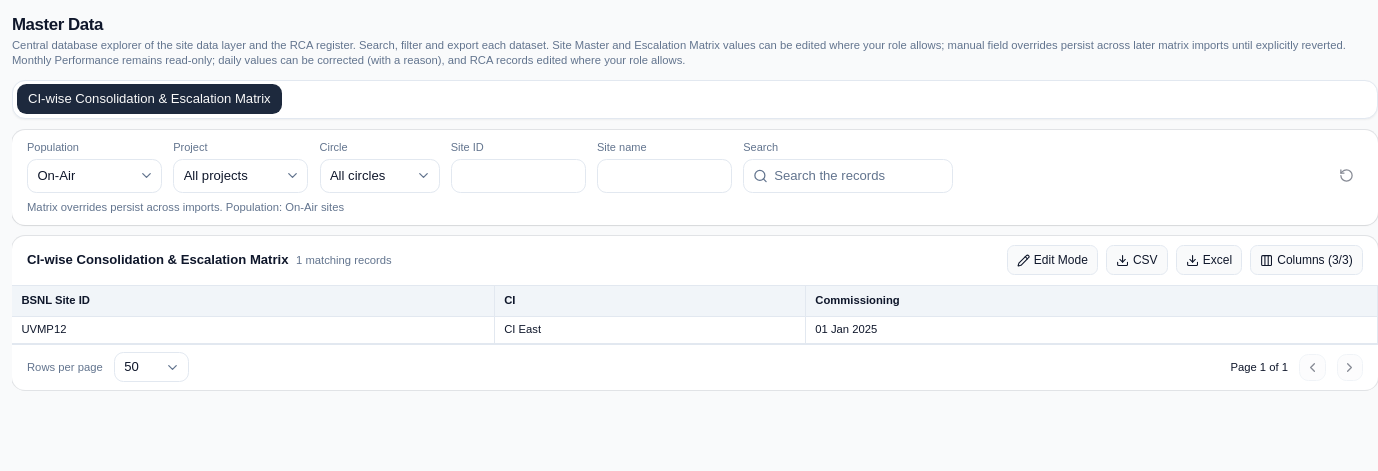
Test case: Master Data editing › shows CI-wise Edit Mode and saves only the authorized matrix fields
The width and height of the screenshot is (1378, 471).
Click the button "Edit Mode" at (1052, 260), box [1006,245,1098,275]
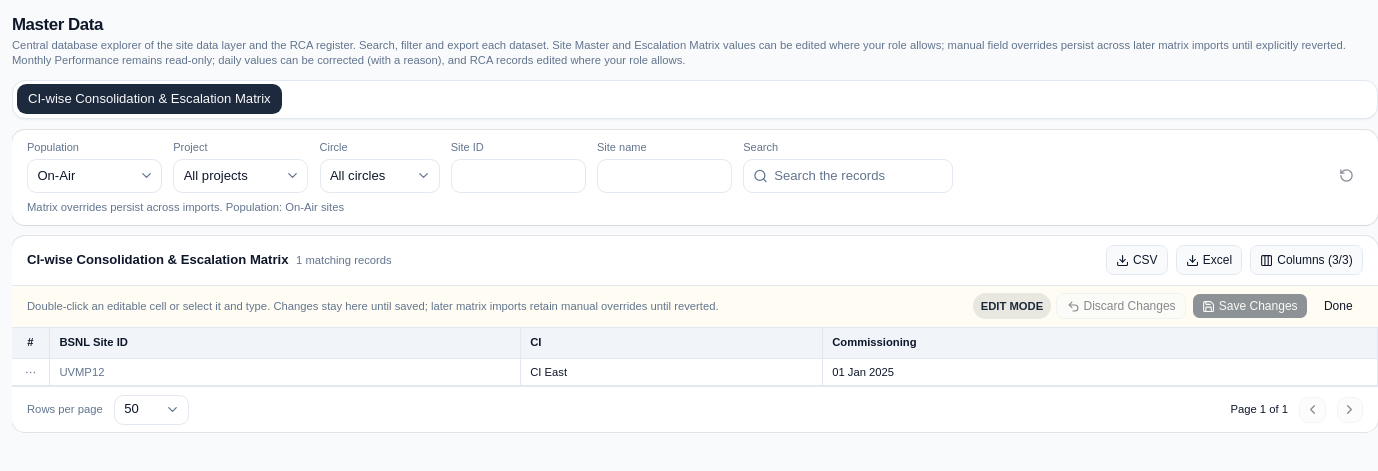
Double-click the cell named "CI of record 12" at (671, 372), box [520,358,822,386]
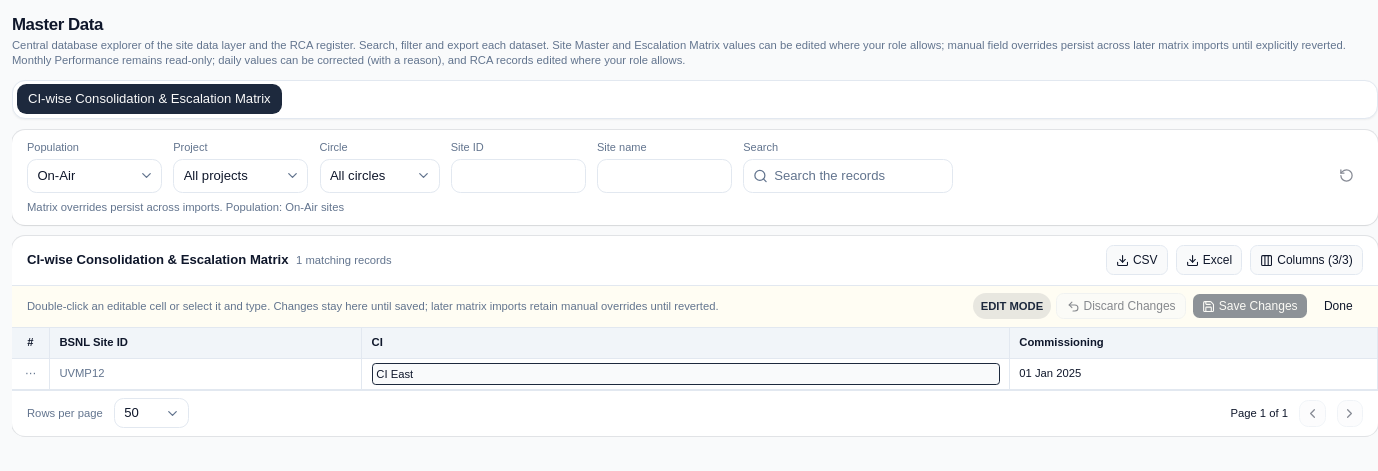
Replace the text in the field named "CI of record 12" with "Manual CI" at (686, 374), box [372,363,1000,385]
Then press Enter
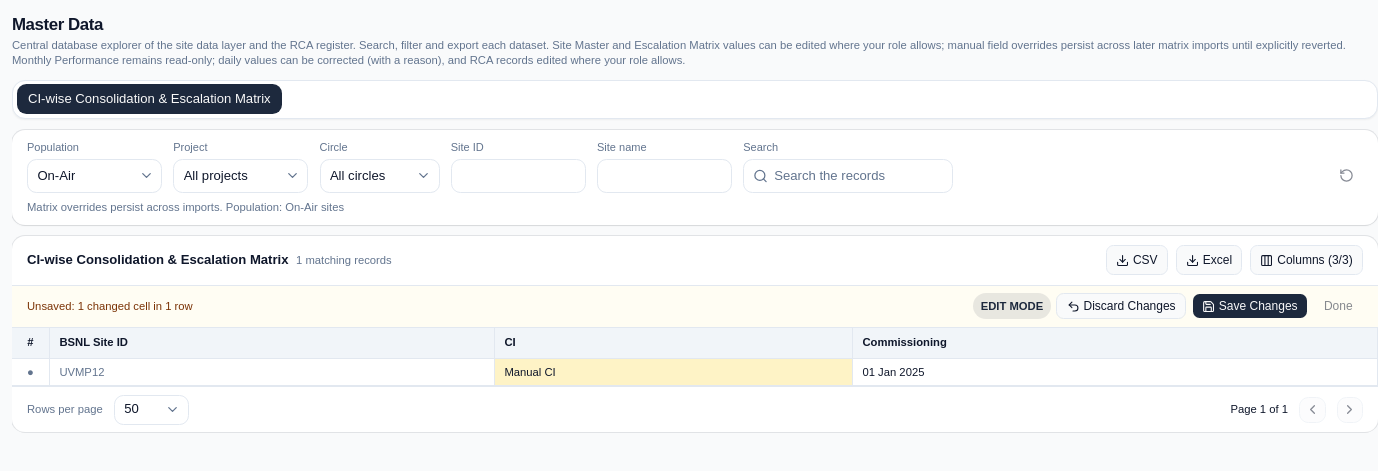
Double-click the cell named "Commissioning of record 12" at (1115, 372), box [853,358,1377,386]
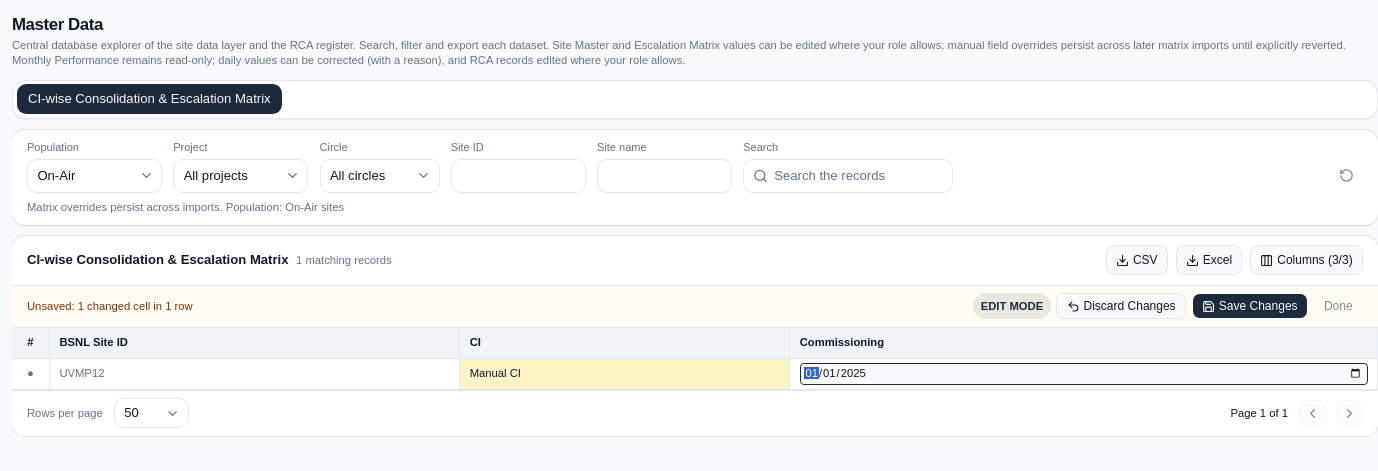
Type "2025-02-01" into the date field named "Commissioning of record 12" at (1084, 374), box [800,363,1368,385]
Press Enter in the date field named "Commissioning of record 12", box [800,363,1368,385]
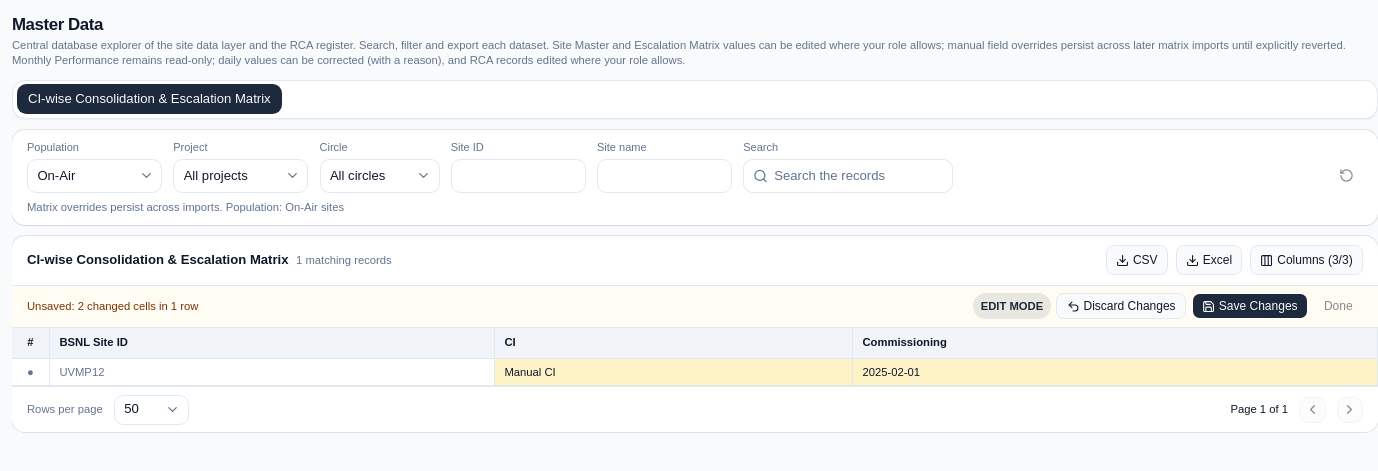
Check: the element named "Unsaved changes" shows "2 changed cells in 1 row", box [27,300,198,312]
Click the button "Save Changes" at (1250, 306), box [1192,293,1308,320]
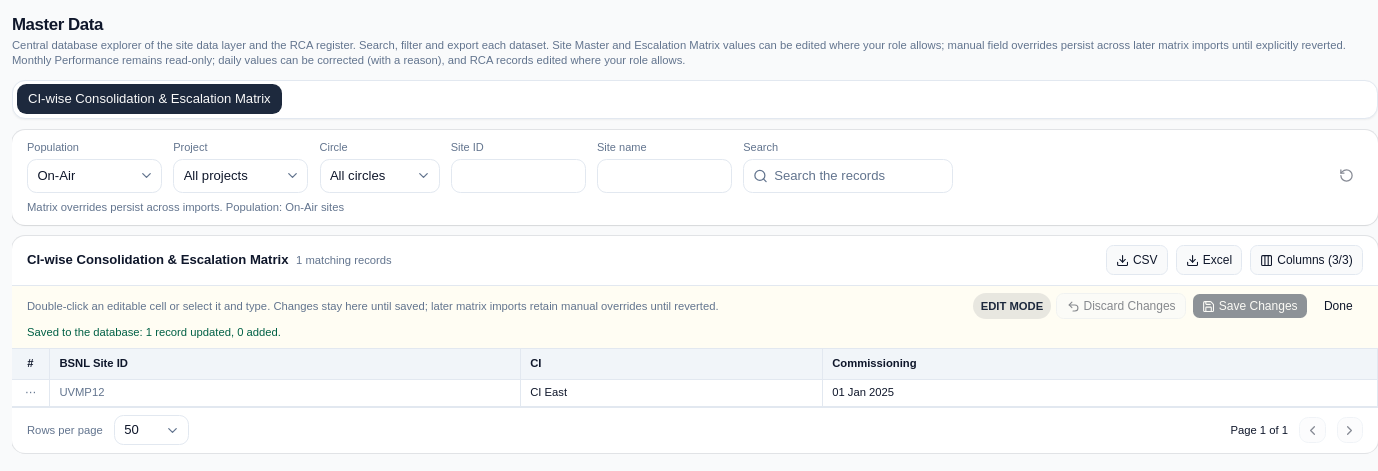
Check: the text "Saved to the database: 1 record updated, 0 added." is shown, box [27,326,281,338]
